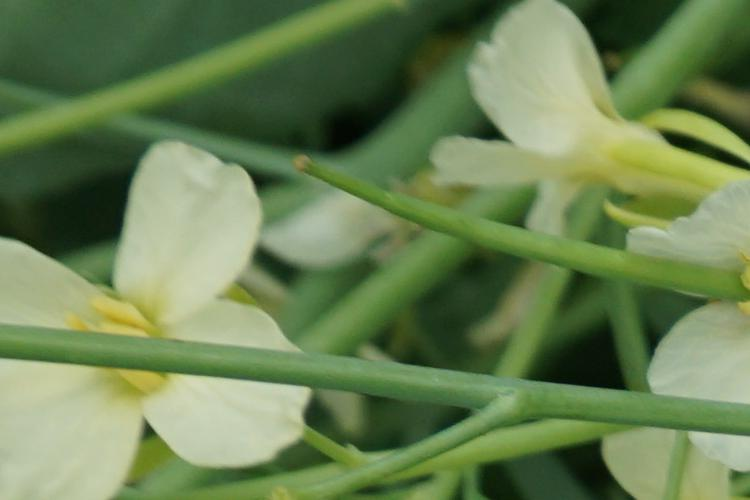white: (7, 124, 307, 494), (573, 175, 750, 483), (461, 8, 703, 215)
